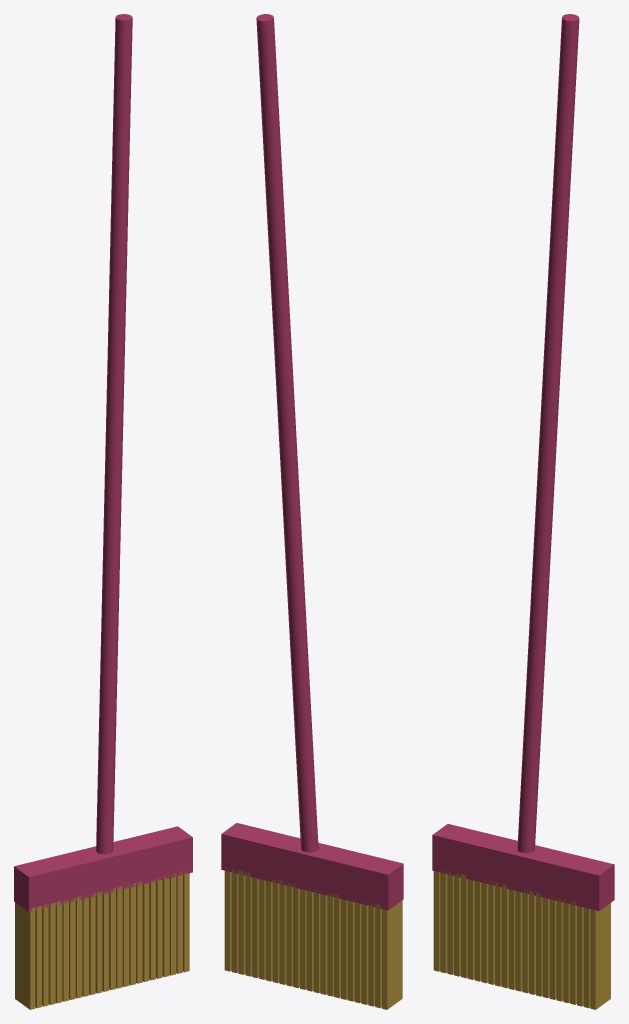
Rendered from broom.glb.
3 renders of one model, left to right at view 1: azimuth 30°, elevation 25°; view 2: azimuth 150°, elevation 25°; view 3: azimuth 330°, elevation 25°, orthographic.
Visible parts, largest first — view 1: 扫帚刷毛 (×24), 扫帚长杆, 扫帚头横梁; view 2: 扫帚刷毛 (×24), 扫帚长杆, 扫帚头横梁; view 3: 扫帚刷毛 (×24), 扫帚长杆, 扫帚头横梁.
Part boxes in pixels (x1,y1,x2,y2): 扫帚刷毛 (×24): (15, 870, 189, 1009); 扫帚长杆: (96, 14, 132, 854); 扫帚头横梁: (14, 826, 192, 912); 扫帚刷毛 (×24): (224, 868, 402, 1009); 扫帚长杆: (256, 14, 318, 852); 扫帚头横梁: (221, 823, 403, 910); 扫帚刷毛 (×24): (433, 869, 610, 1009); 扫帚长杆: (517, 14, 579, 853); 扫帚头横梁: (432, 824, 614, 910).
Bounding box in the file's own units: 0.22 × 1.22 × 0.0575.
